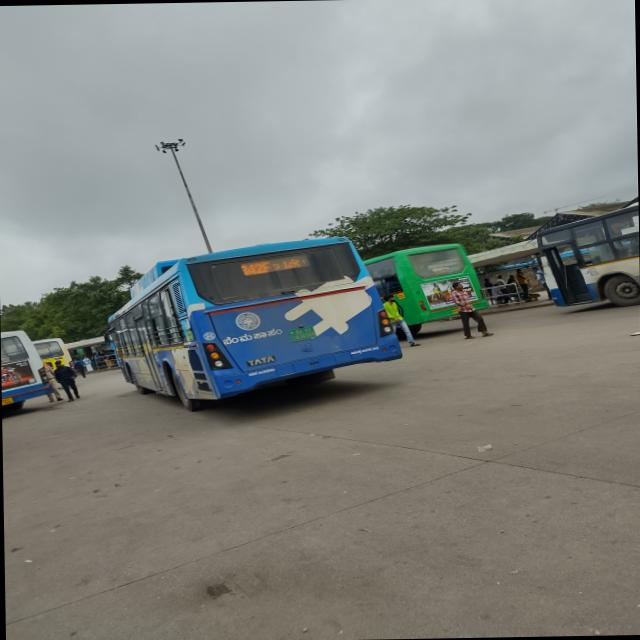bus: (101, 225, 411, 414), (370, 237, 516, 330), (530, 200, 640, 314), (1, 328, 54, 408)
display: (238, 254, 310, 276)
dnumber: (239, 260, 270, 274)
